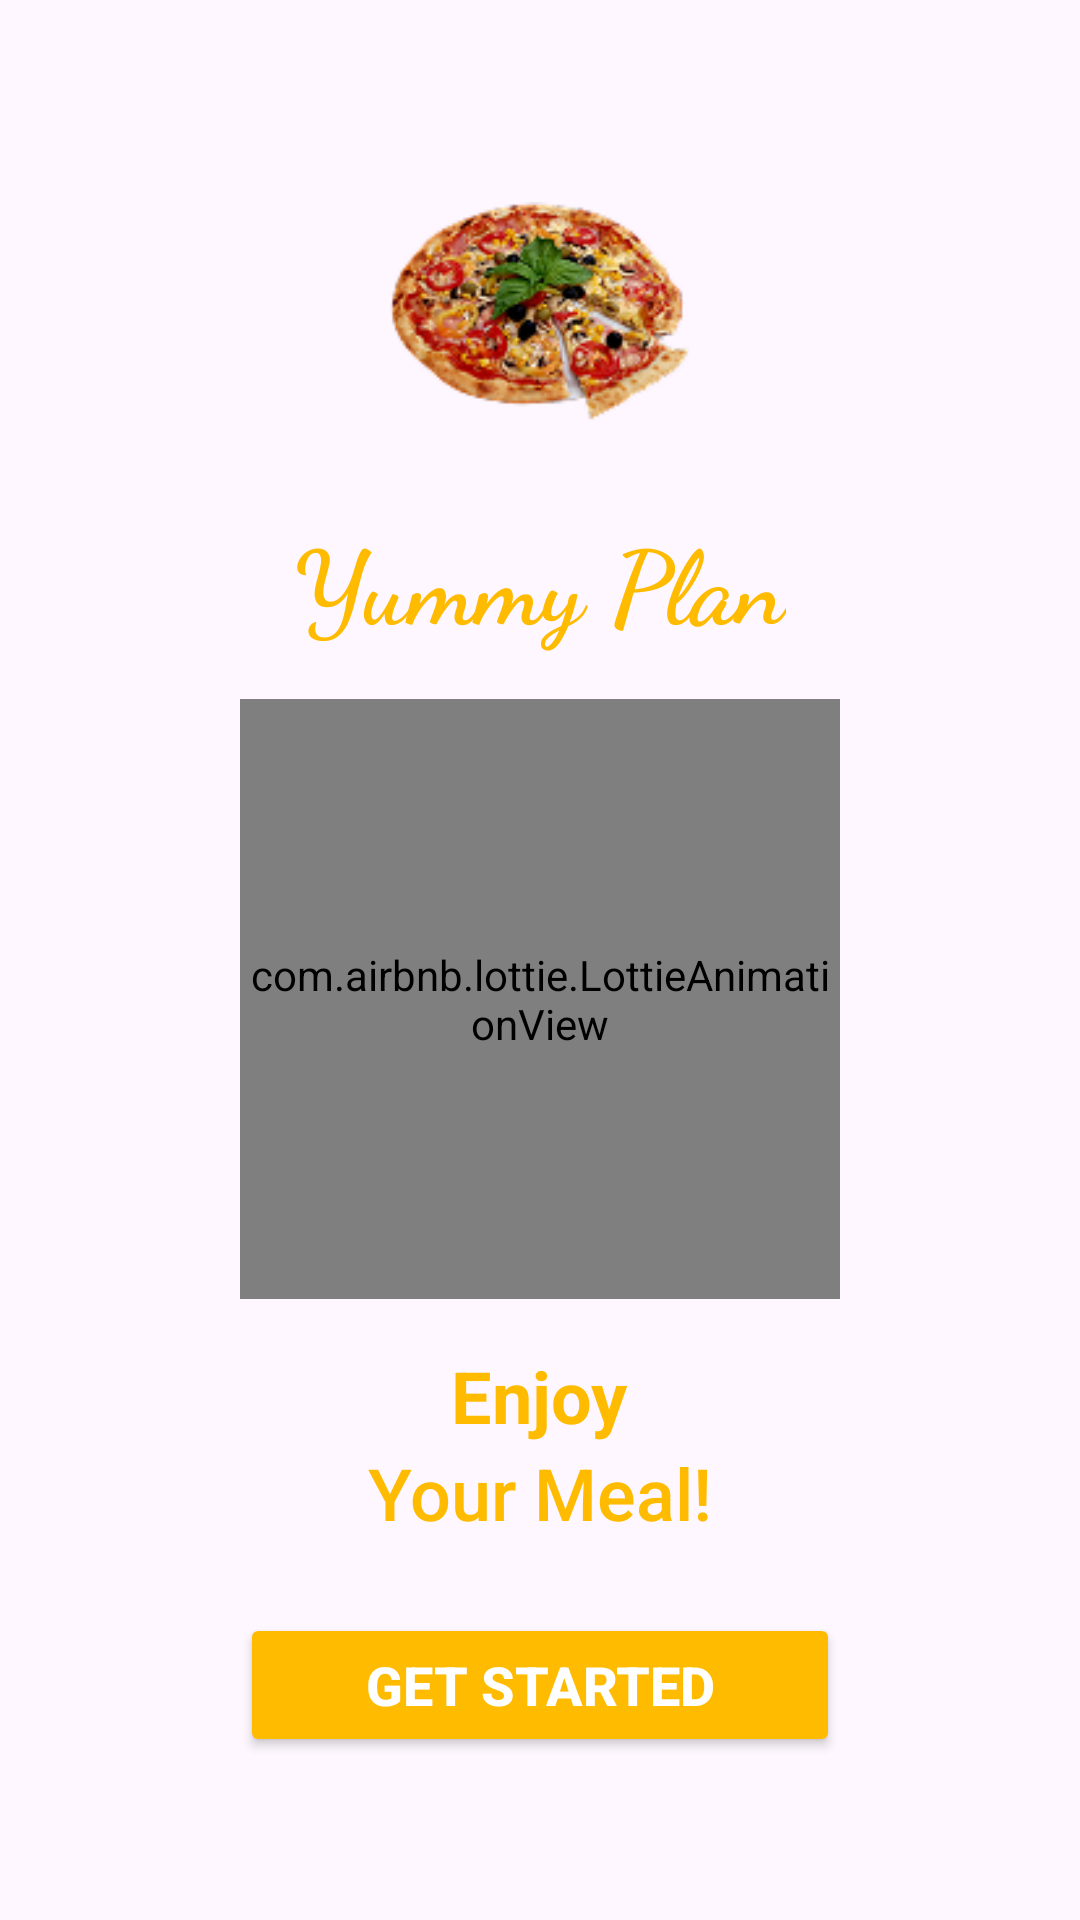

Screen size 1080*1920. Icon name, then its center in pixels as [x,y]:
pizza: [539,312]
